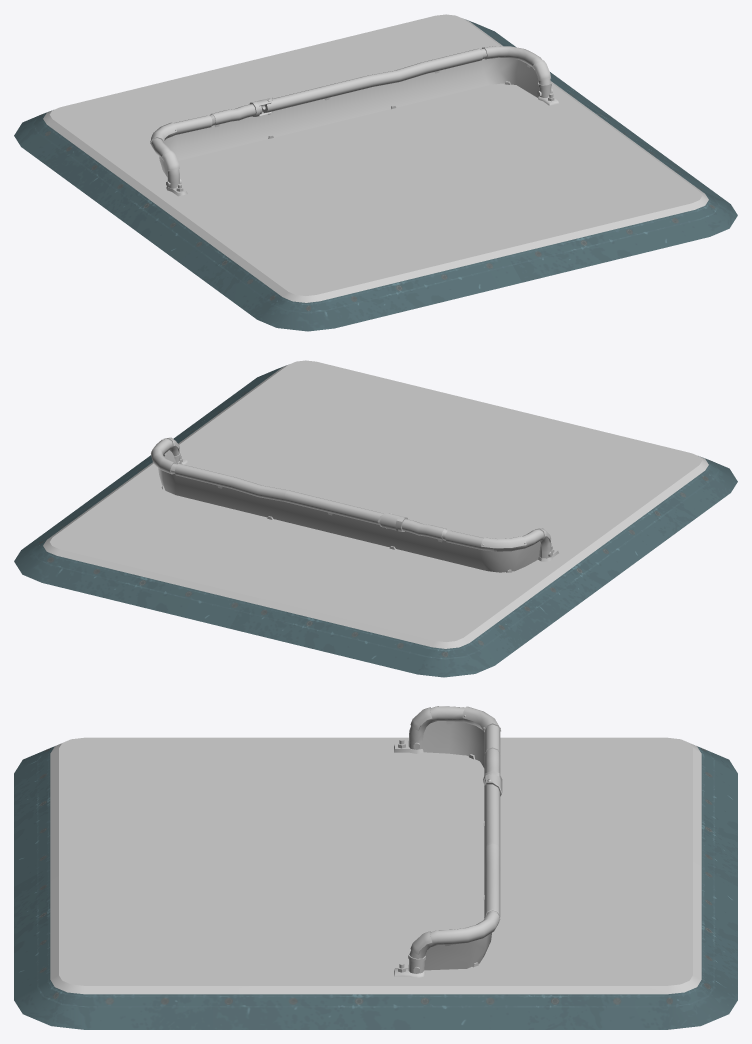
The model's file is env_hideout_pumpplatform.fbx.
3 renders of one model, top to bottom at view 1: azimuth 30°, elevation 25°; view 2: azimuth 150°, elevation 25°; view 3: azimuth 270°, elevation 25°, orthographic. The views are drawn at different scales.
Visible parts, largest first — view 1: group3_polySurface1086; view 2: group3_polySurface1086; view 3: group3_polySurface1086.
Boxes of the visible parts, left/top/right/bottom form: group3_polySurface1086: left=14, top=14, right=737, bottom=331; group3_polySurface1086: left=14, top=360, right=737, bottom=677; group3_polySurface1086: left=14, top=706, right=737, bottom=1029.
Size of the model in its own units: 87.86 by 10.14 by 94.02.
